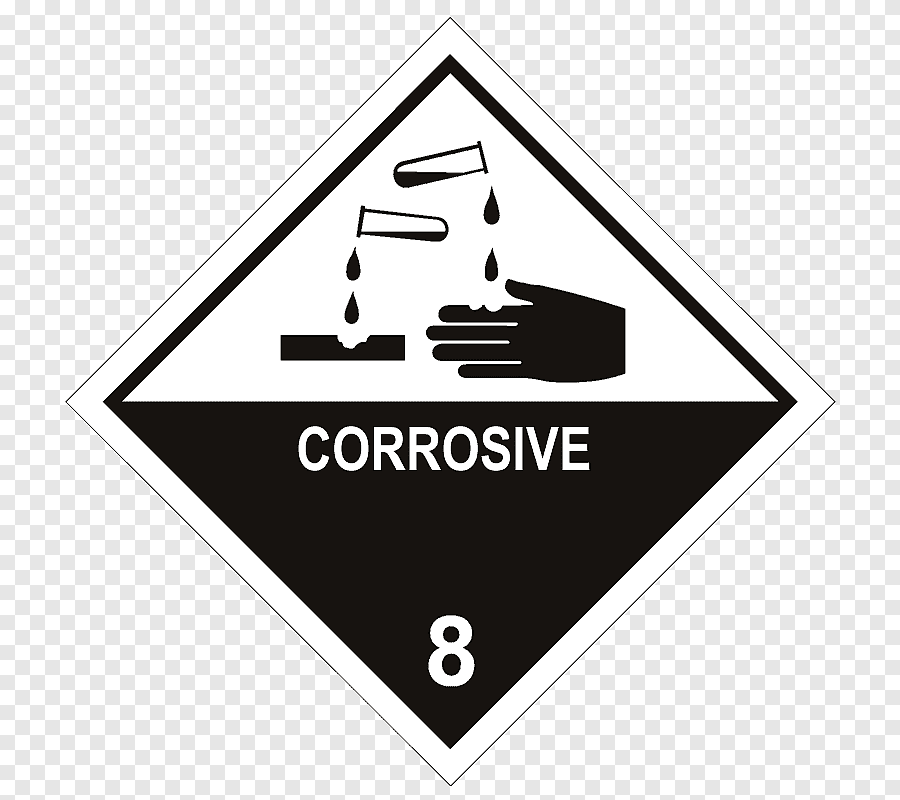Corrosive: (67, 18, 835, 788)
